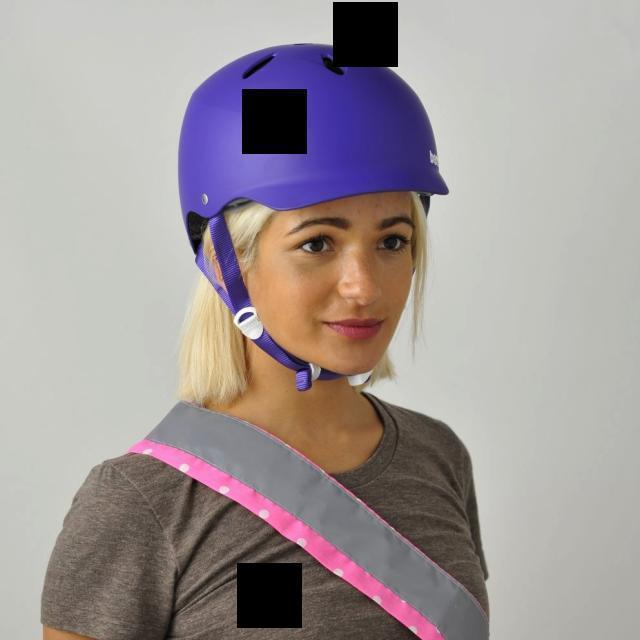helmet: (174, 42, 448, 390)
